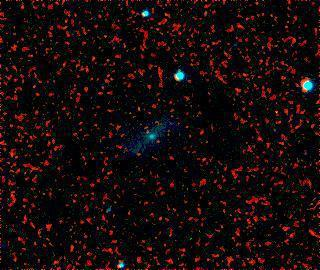star: (229, 11, 259, 41)
